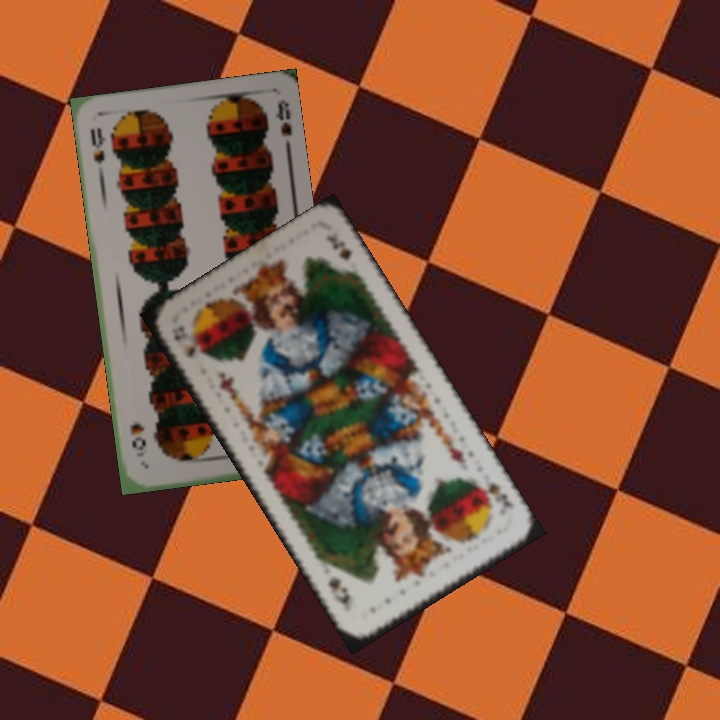S8: (86, 124, 108, 179)
SK: (472, 476, 517, 511), (167, 321, 199, 361)
